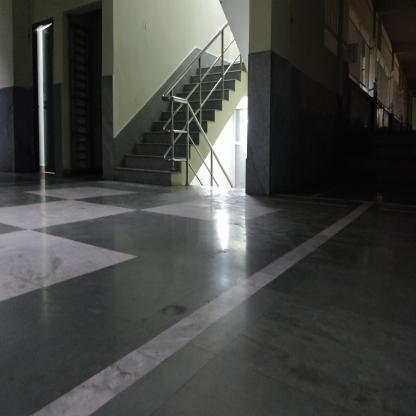stairs: (144, 133, 164, 192)
